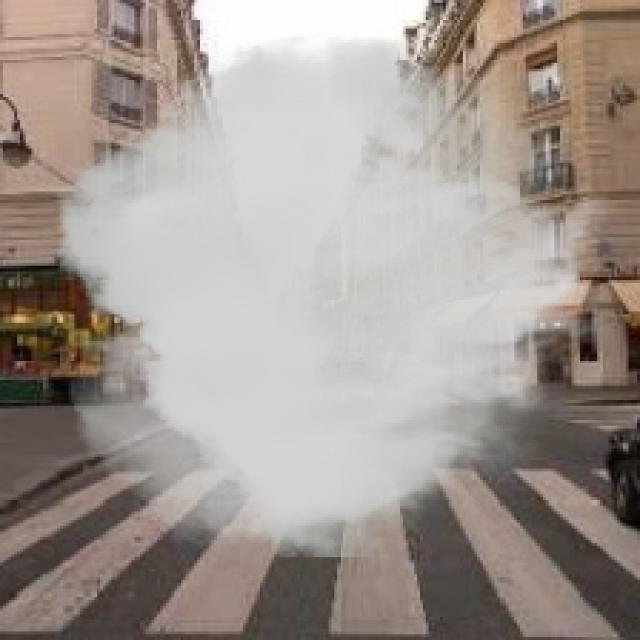Smoke: (57, 29, 620, 558)
